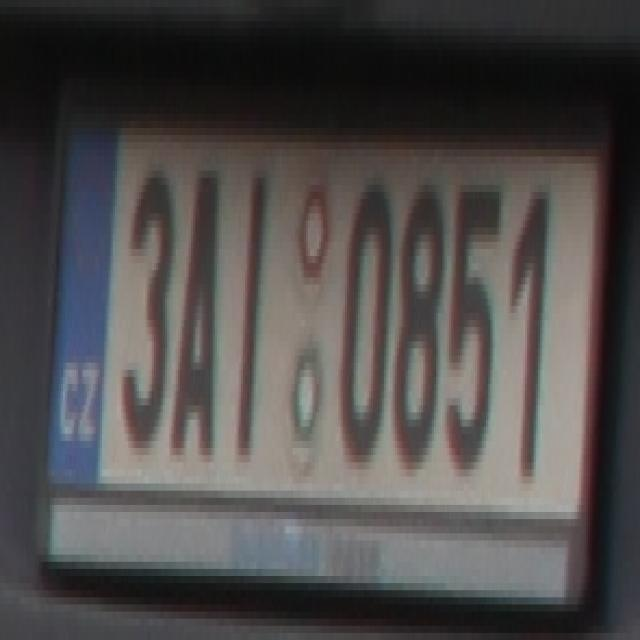0: (336, 170, 391, 477)
1: (503, 156, 551, 476)
3: (120, 156, 170, 462)
5: (445, 164, 497, 476)
8: (388, 164, 441, 476)
A: (170, 156, 222, 462)
